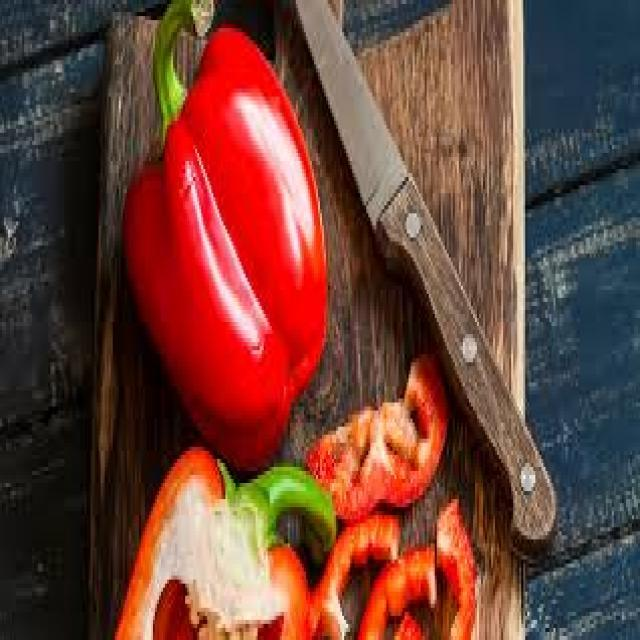Pepper: (122, 25, 329, 481)
